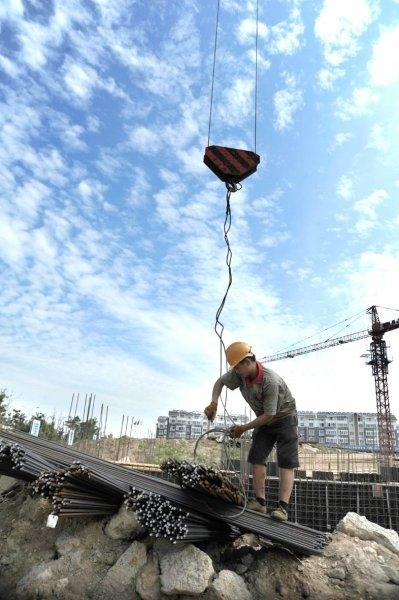helmet: (226, 342, 255, 371)
